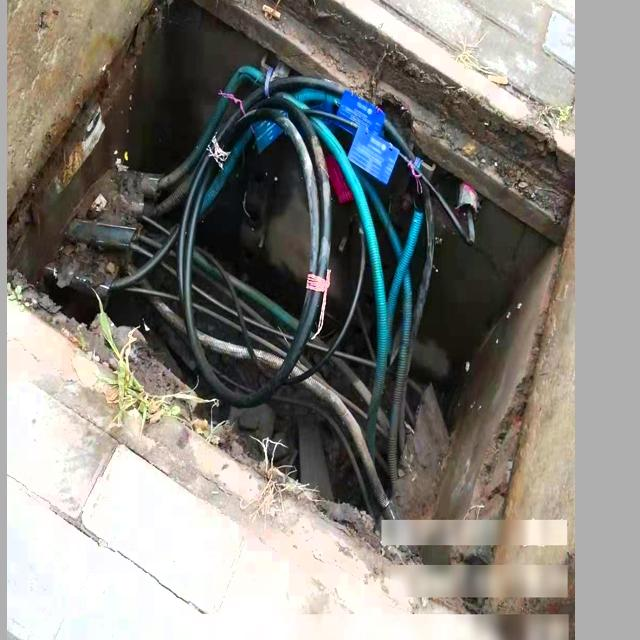uncovered: (6, 0, 568, 623)
